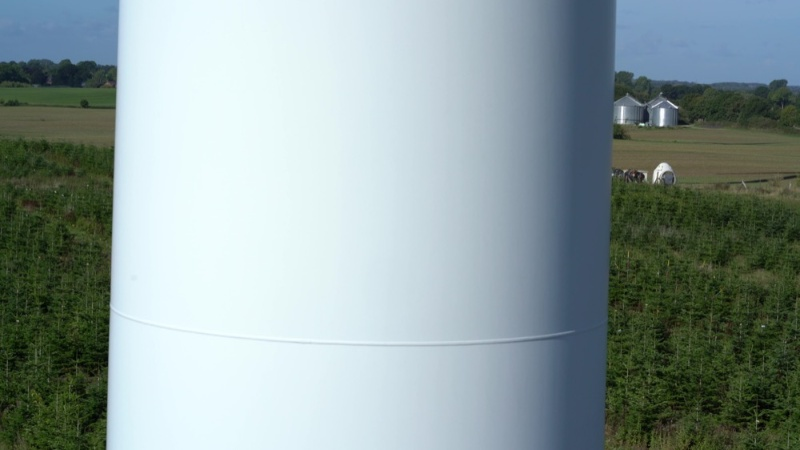weldseam: (109, 300, 608, 351)
